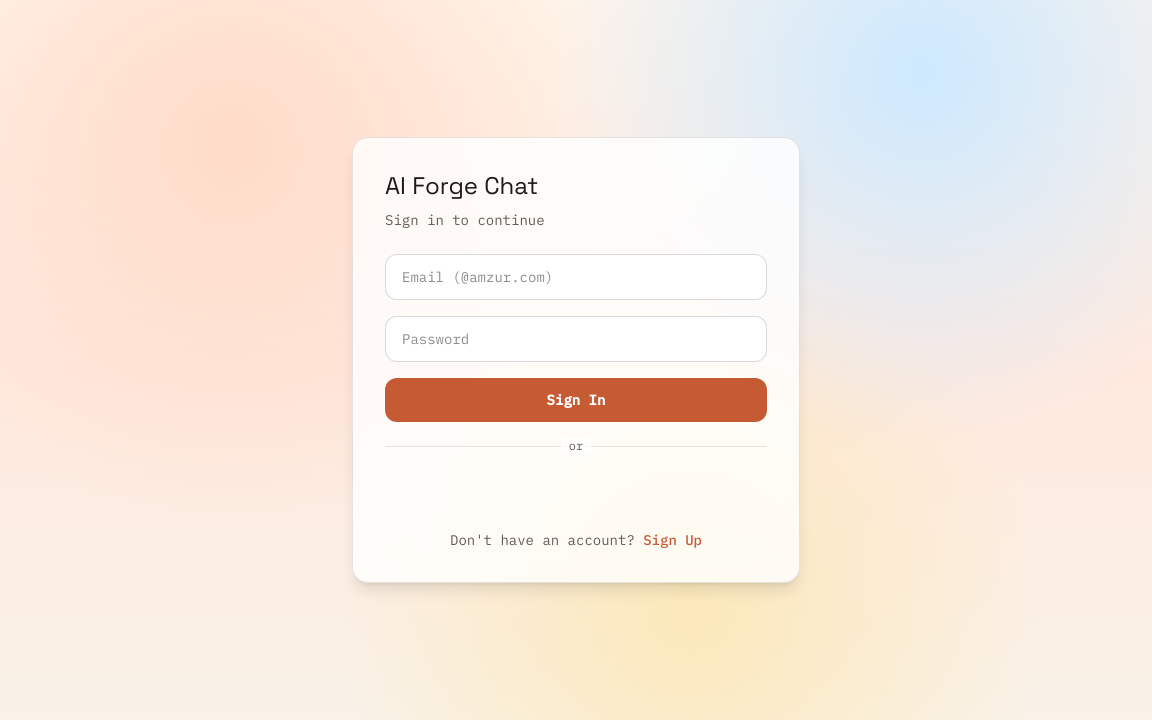
Scenario: LoginPage › shows signup form when toggled
This screenshot has width=1152, height=720.
Step 1. Click the button "Sign Up" → (673, 540), box x1=643 y1=530 x2=702 y2=550
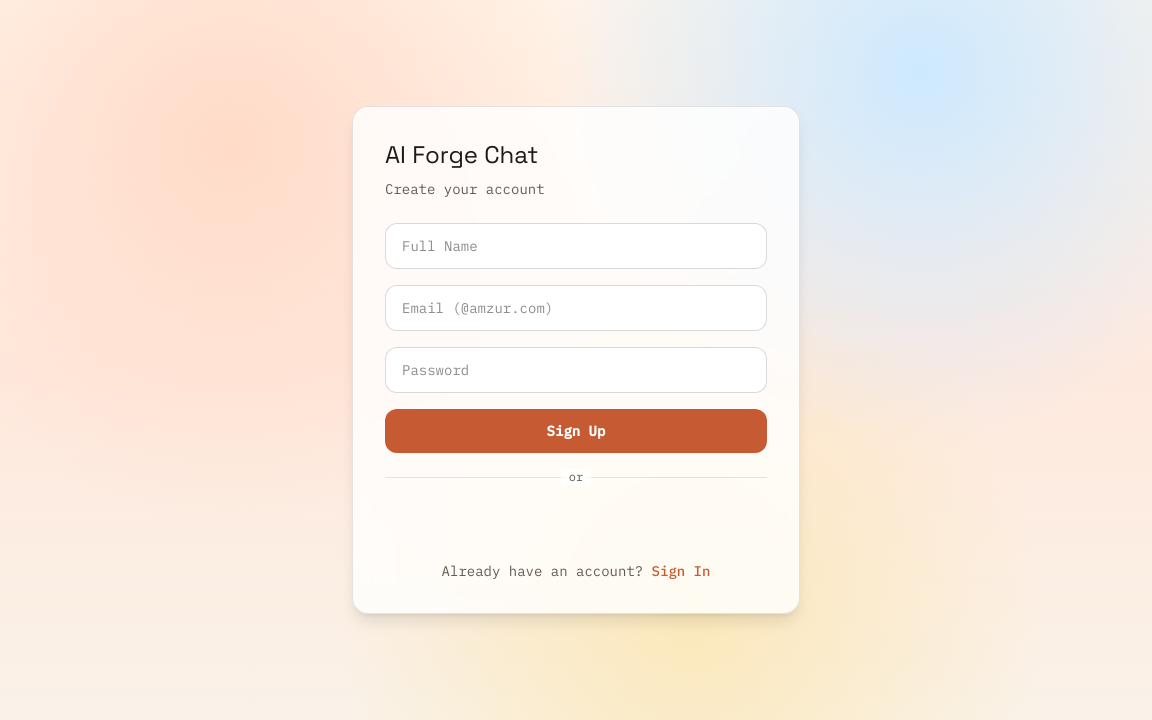
Now the text "Create your account" is shown, box x1=385 y1=180 x2=545 y2=198
Now the field with placeholder "Full Name" is shown, box x1=385 y1=223 x2=767 y2=269
